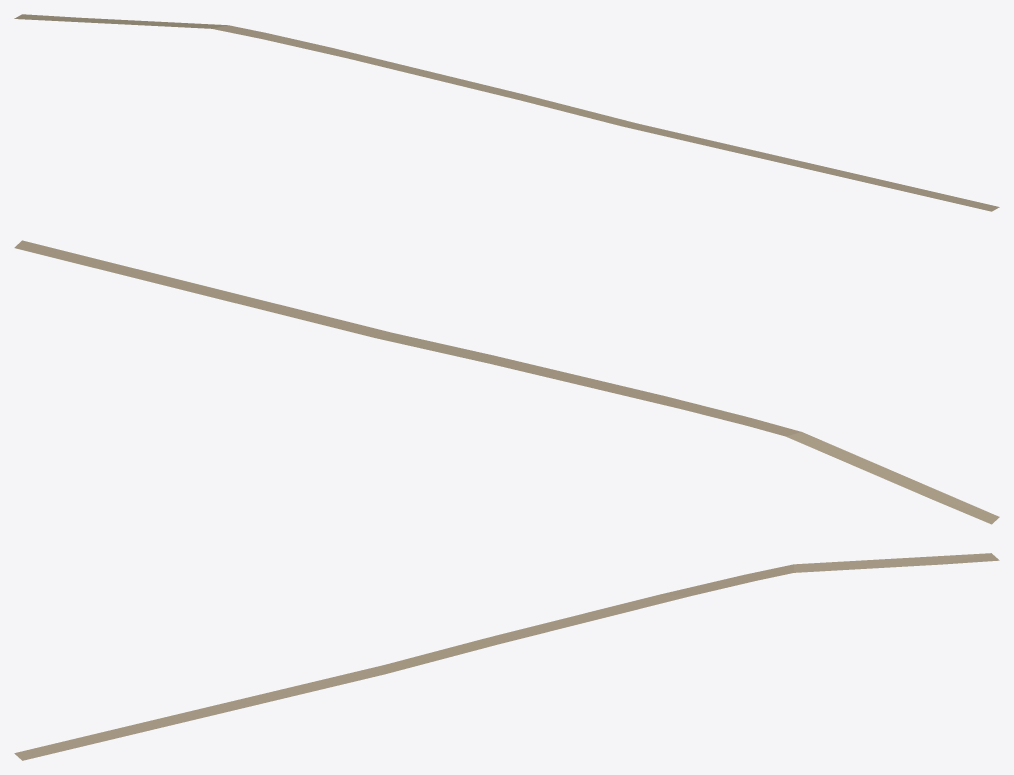
File: farm_-30_-31_track.glb
The picture shows the model from 3 angles, top to bottom: view 1: azimuth 30°, elevation 25°; view 2: azimuth 210°, elevation 25°; view 3: azimuth 270°, elevation 25°; orthographic projection.
Parts seen in each view (by area): view 1: geometry_0; view 2: geometry_0; view 3: geometry_0.
Part boxes in pixels (x1,y1,x2,y2): geometry_0: (14, 14, 999, 211); geometry_0: (14, 240, 999, 524); geometry_0: (14, 553, 999, 760).
Bounding box in the file's own units: 115 × 9.42 × 193.
